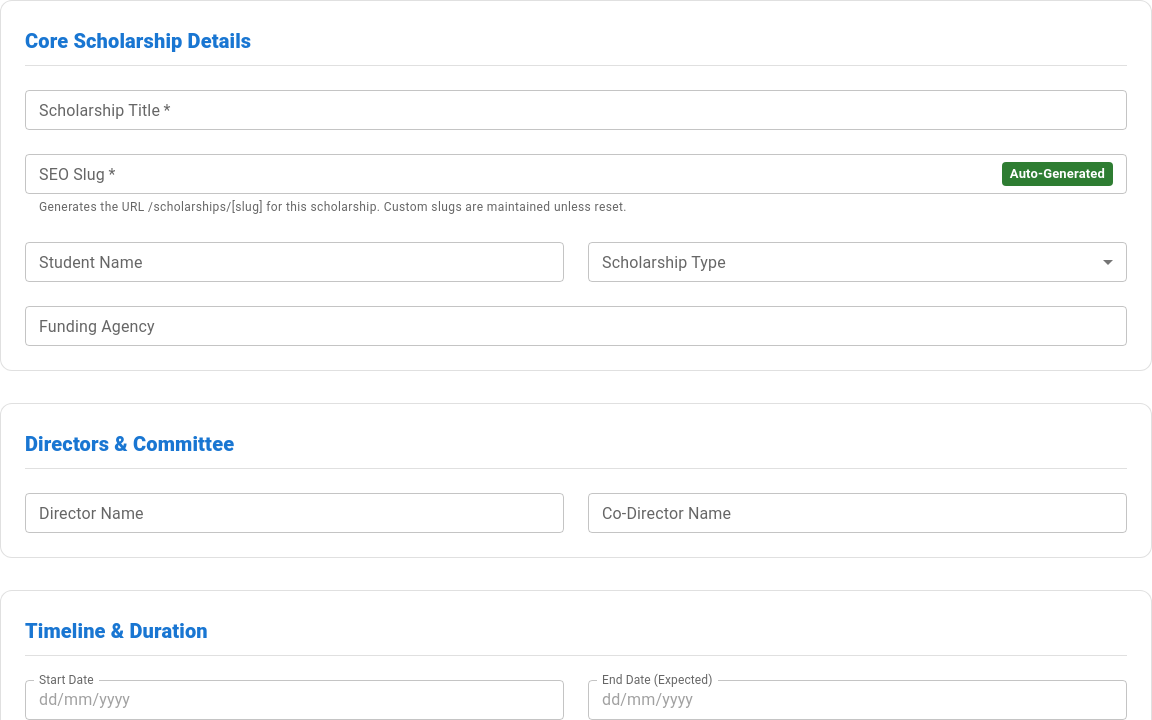
Test case: ScholarshipForm Component › automatically generates slug from Title changes
The image size is (1152, 720).
Step 1. Type "New Scholarship Title" into the field labelled "Scholarship Title *" → point(576, 110), box [25, 90, 1127, 130]
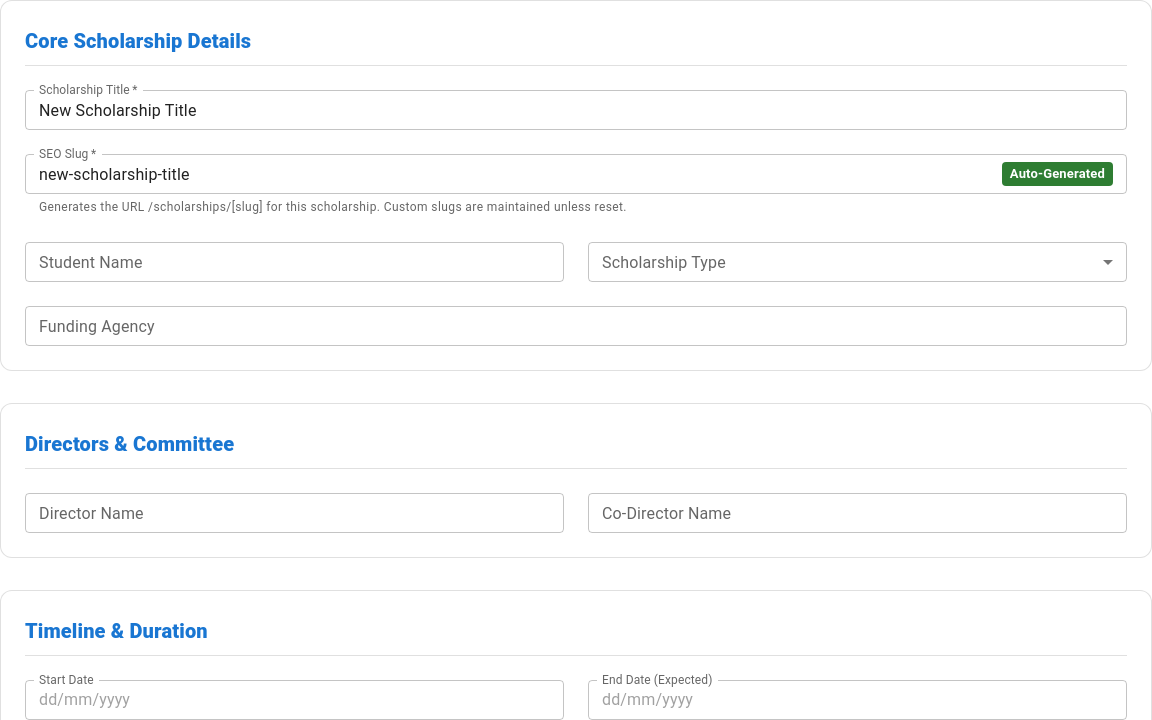
Expected: the field labelled "SEO Slug *" holds "new-scholarship-title", [25, 154, 994, 194]
